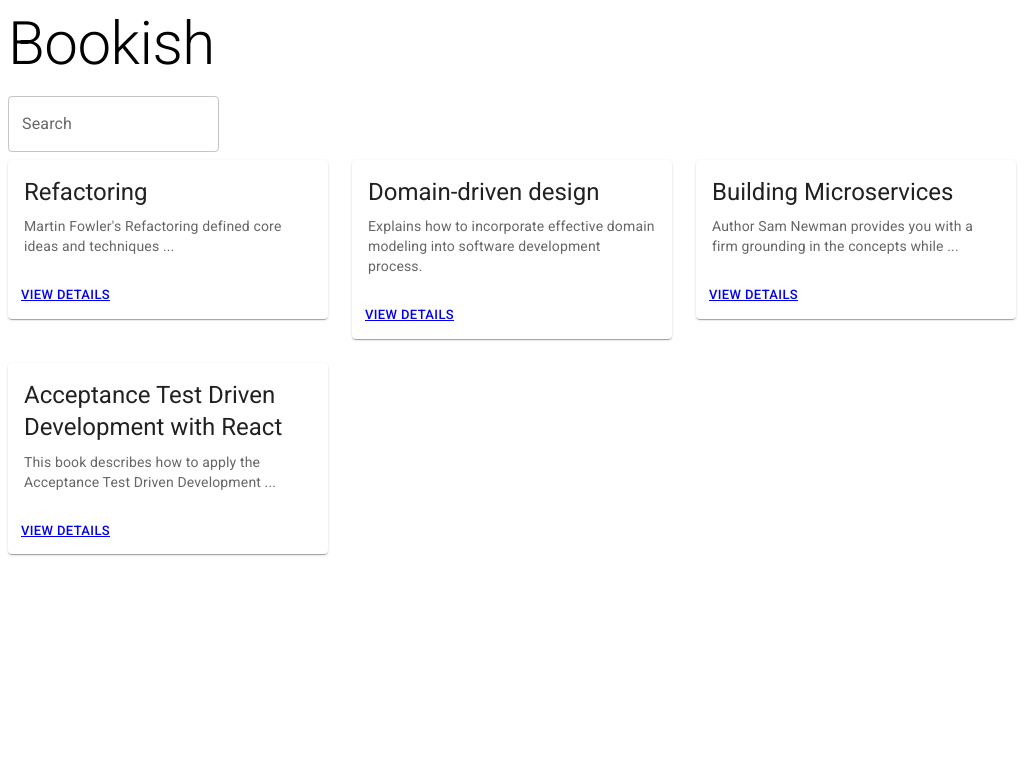
Test: Bookish Application › Searches for a title
Expected: the element with test id "book-list" is shown, [8,136,1016,554]
Type "design" into the field labelled "Search".
click(114, 124); type("design")  # box [8,96,219,152]
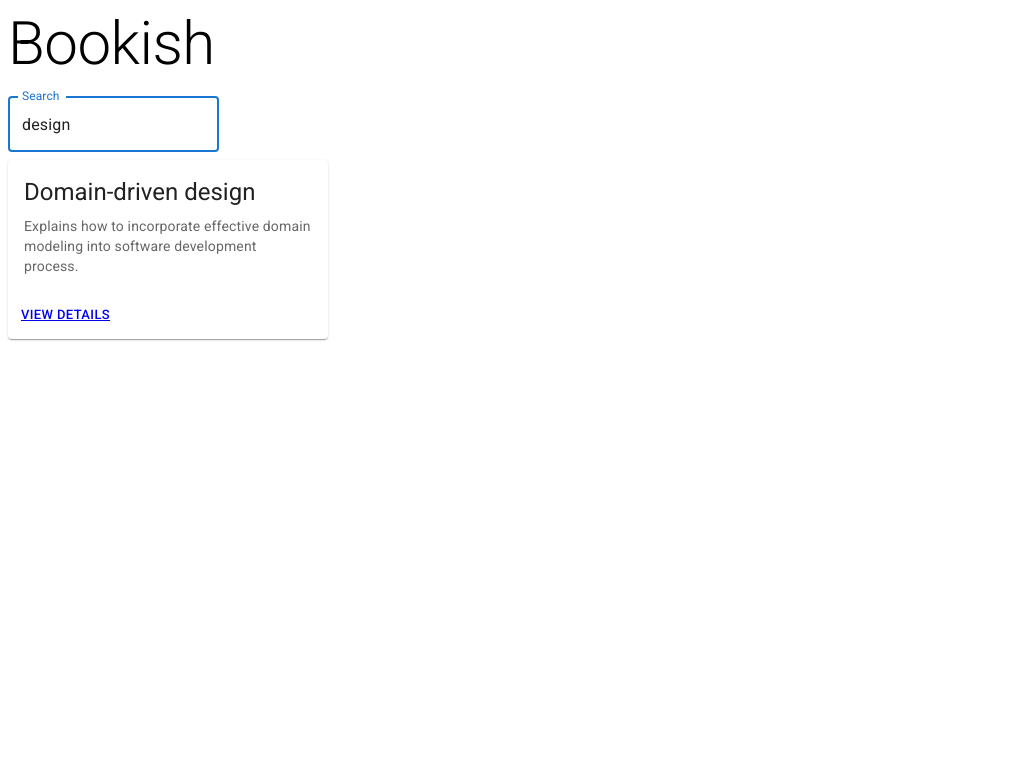
Expected: the element with test id "book-list" is shown, [8,160,328,339]
Now the number of elements with class "book-item" is 1, box [0,136,328,339]
